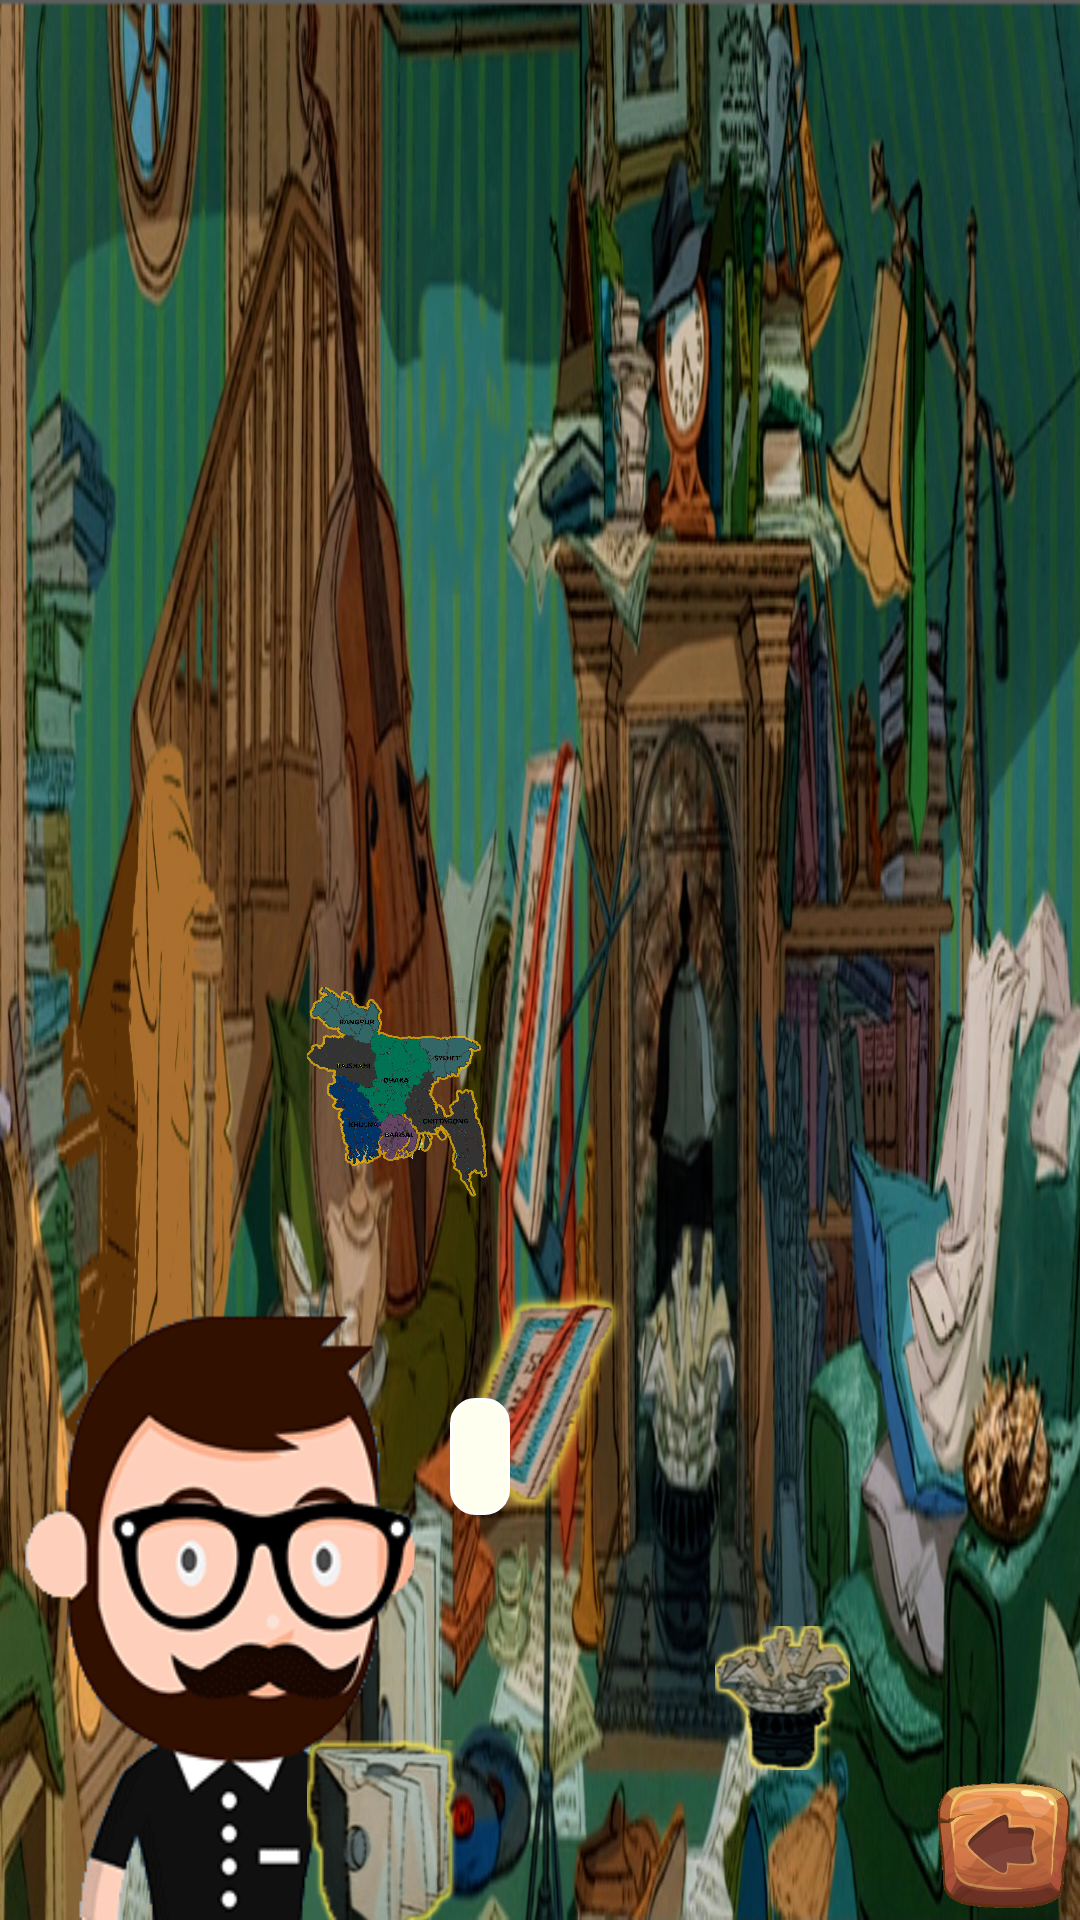

Where to tap for icons on this 1080w x 1920h app screen, as (x,y):
map: (397,1092)
